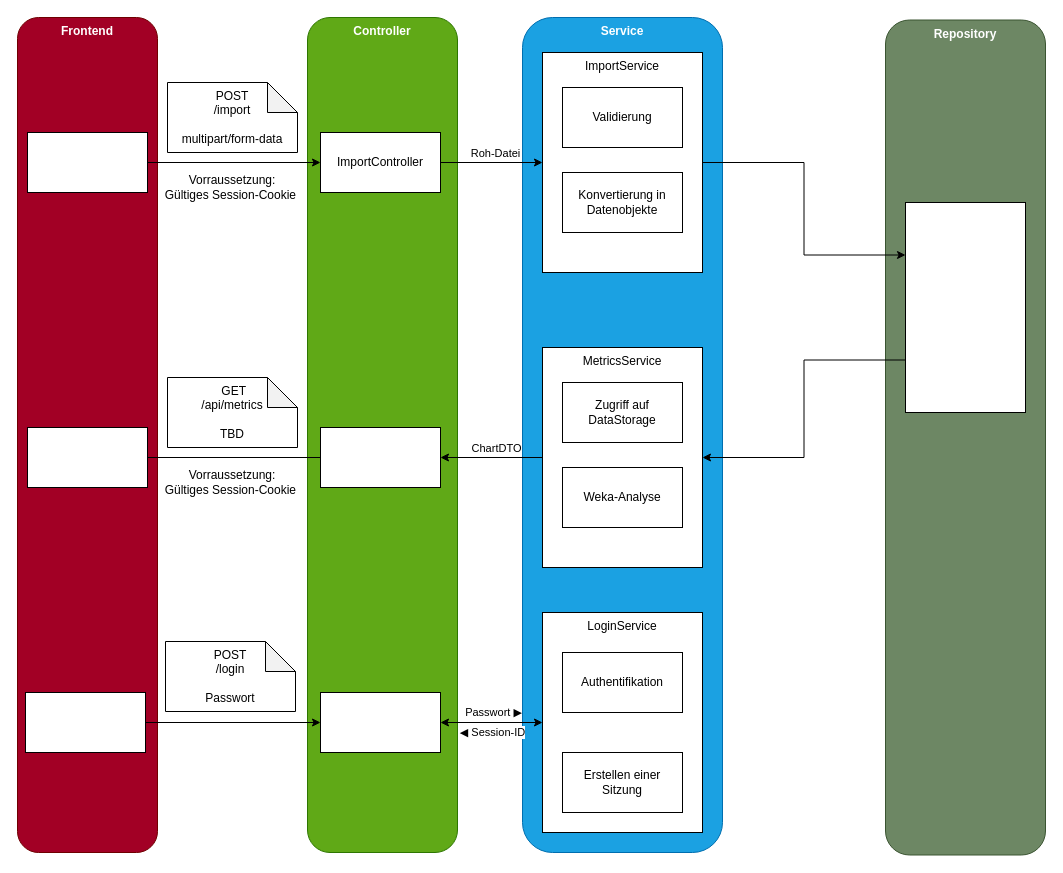
This 1063x873 diagram has some shape labels left out. The shapes that lost their labels are listed below. From the top down, each one's centre as x and y in pixels, then its label:
At (x=87, y=162): "Import-Seite".
At (x=965, y=307): "DataStorage (In Java, keine DB)".
At (x=87, y=457): "Metrik-Seite".
At (x=380, y=457): "MetricsController".
At (x=85, y=722): "Login-Seite".
At (x=380, y=722): "LoginController".
